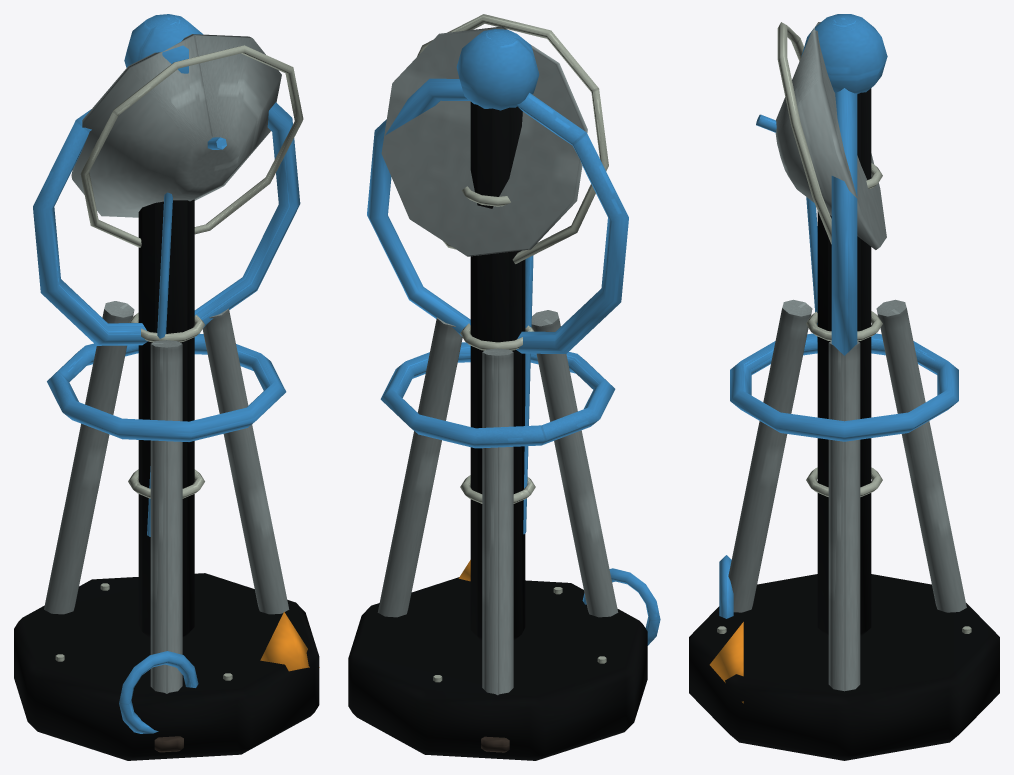
Rendered from beacon-signal-low.glb.
The picture shows the model from 3 angles, left to right: view 1: azimuth 30°, elevation 25°; view 2: azimuth 150°, elevation 25°; view 3: azimuth 270°, elevation 25°; orthographic projection. The views are drawn at different scales.
Visible parts, largest first — view 1: Beacon_Base.001, Beacon_Dish.001, Beacon_Mast.001, Beacon_Array_High.001, Beacon_Leg_2.001, Beacon_Leg_0.001, Beacon_Leg_1.001, Beacon_Array_Low.001, Beacon_Dish_Rim.001, Beacon_Light.001, PORT_Signal.008, PORT_Power.011 (+3 smaller); view 2: Beacon_Base.001, Beacon_Dish.001, Beacon_Mast.001, Beacon_Array_High.001, Beacon_Leg_1.001, Beacon_Leg_0.001, Beacon_Leg_2.001, Beacon_Array_Low.001, Beacon_Light.001, Beacon_Dish_Rim.001, Beacon_Signal_Loom.001, PORT_Signal.008 (+2 smaller); view 3: Beacon_Base.001, Beacon_Leg_0.001, Beacon_Mast.001, Beacon_Leg_1.001, Beacon_Leg_2.001, Beacon_Dish.001, Beacon_Array_Low.001, Beacon_Array_High.001, Beacon_Light.001, Beacon_Dish_Rim.001, PORT_Power.011, Beacon_Signal_Loom.001 (+3 smaller).
Boxes of the visible parts, x1,y1,x2,y2 form: Beacon_Base.001: (14,573,319,760); Beacon_Dish.001: (71,34,281,217); Beacon_Mast.001: (138,199,194,637); Beacon_Array_High.001: (33,102,300,345); Beacon_Leg_2.001: (150,340,182,693); Beacon_Leg_0.001: (202,308,289,614); Beacon_Leg_1.001: (44,301,134,614); Beacon_Array_Low.001: (47,333,286,441); Beacon_Dish_Rim.001: (80,45,303,247); Beacon_Light.001: (124,14,203,73); PORT_Signal.008: (119,651,198,733); PORT_Power.011: (260,612,319,671); Beacon_Base.001: (348,577,647,760); Beacon_Dish.001: (381,26,587,256); Beacon_Mast.001: (470,102,525,640); Beacon_Array_High.001: (367,78,628,353); Beacon_Leg_1.001: (482,348,513,695); Beacon_Leg_0.001: (377,317,462,617); Beacon_Leg_2.001: (531,310,618,617); Beacon_Array_Low.001: (380,342,615,448); Beacon_Light.001: (456,28,539,110); Beacon_Dish_Rim.001: (417,14,608,263); Beacon_Signal_Loom.001: (523,255,533,534); PORT_Signal.008: (582,568,660,645); Beacon_Base.001: (689,574,999,760); Beacon_Leg_0.001: (828,341,860,691); Beacon_Mast.001: (817,88,871,636); Beacon_Leg_1.001: (876,299,966,612); Beacon_Leg_2.001: (728,299,812,612); Beacon_Dish.001: (775,22,886,249); Beacon_Array_Low.001: (730,333,958,441); Beacon_Array_High.001: (831,88,857,355); Beacon_Light.001: (801,14,887,93); Beacon_Dish_Rim.001: (777,22,831,244); PORT_Power.011: (709,622,743,703); Beacon_Signal_Loom.001: (806,197,817,341).
Bounding box in the file's own units: 0.6847 × 1.65 × 0.6847.
6 materials, 6 textured.
